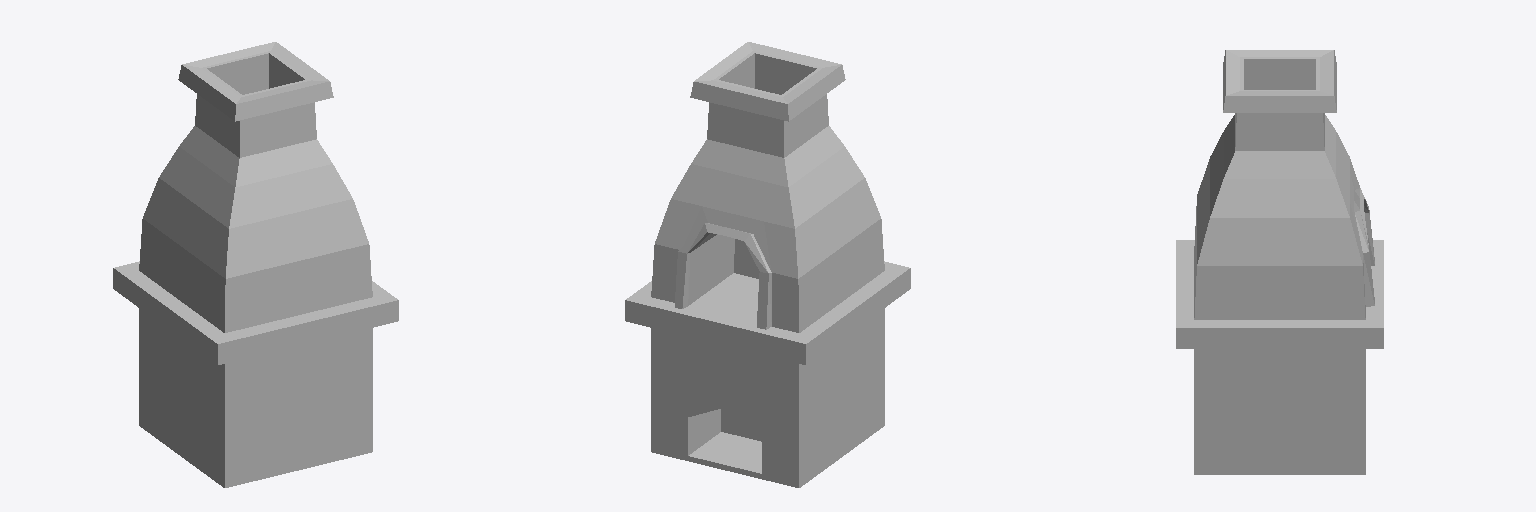
The model's file is Furance.obj.
The picture shows the model from 3 angles: view 1: azimuth 30°, elevation 25°; view 2: azimuth 150°, elevation 25°; view 3: azimuth 270°, elevation 25°; orthographic projection.
Parts seen in each view (by area): view 1: Furance; view 2: Furance; view 3: Furance.
Part boxes in pixels (x1,y1,x2,y2): Furance: (113, 42, 398, 487); Furance: (625, 42, 910, 487); Furance: (1176, 50, 1383, 474).
Bounding box in the file's own units: 8.23 × 15.91 × 8.23.